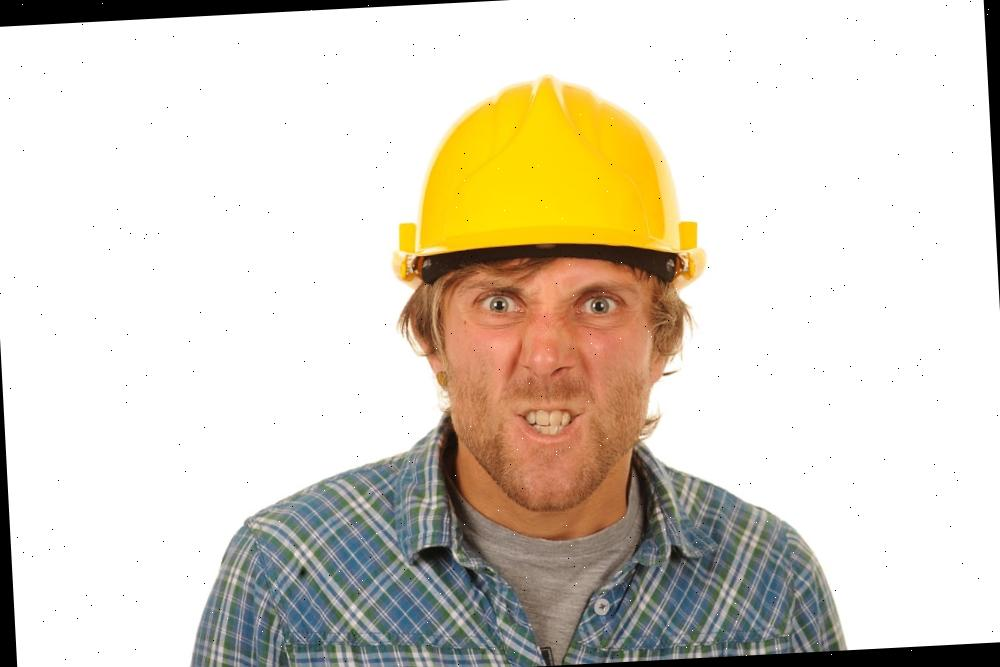helmet: (360, 65, 716, 301)
no_wear: (222, 475, 827, 667)
